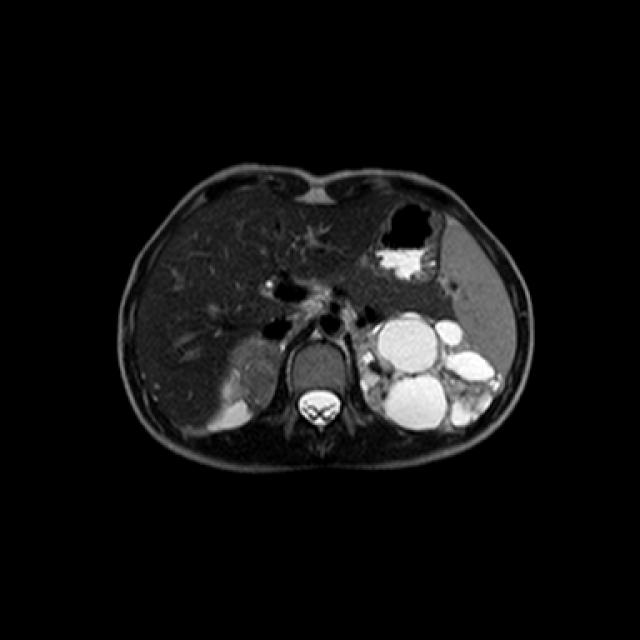sag: (206, 338, 281, 433)
sol: (355, 311, 504, 430)
